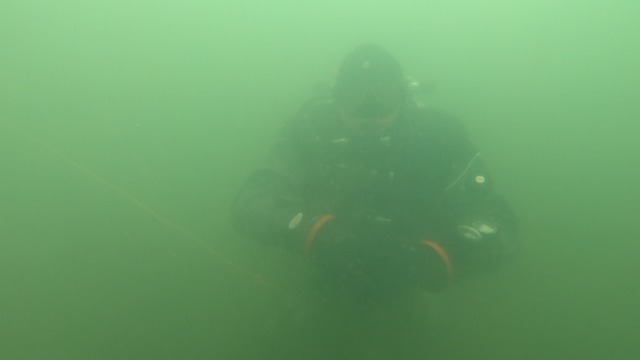Diver: (206, 39, 546, 318)
Hand: (295, 208, 384, 299), (371, 218, 442, 310)
Head: (331, 37, 419, 160)
